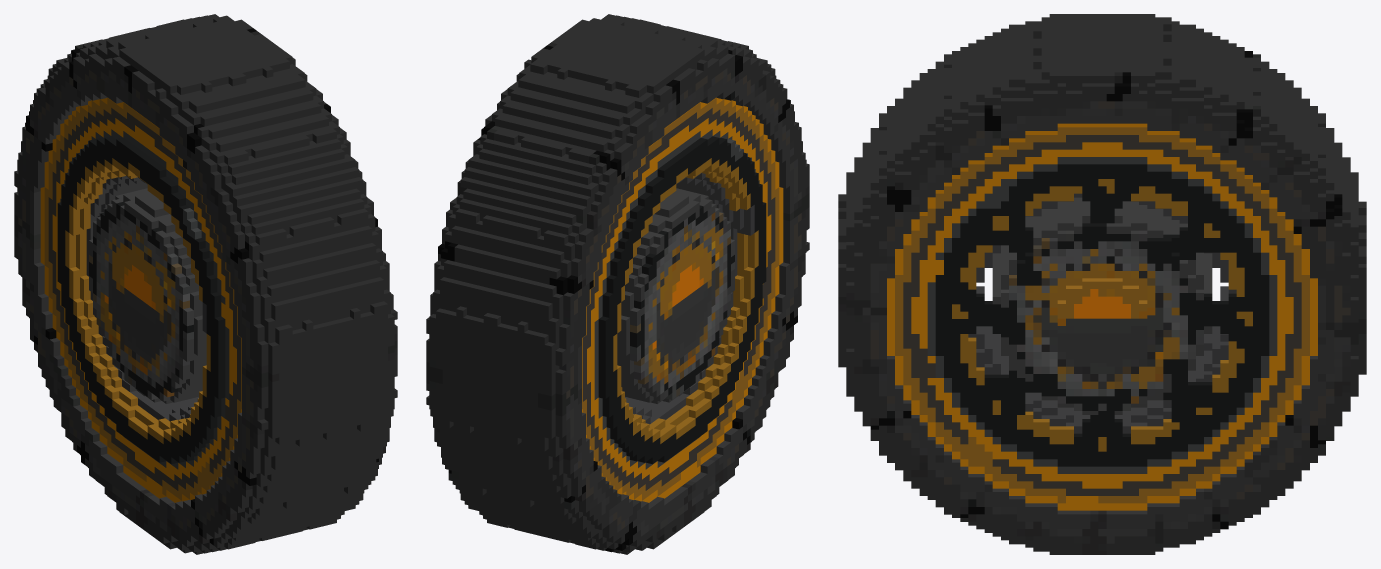
File: WheelObj.obj
The picture shows the model from 3 angles, left to right: view 1: azimuth 30°, elevation 25°; view 2: azimuth 150°, elevation 25°; view 3: azimuth 270°, elevation 25°; orthographic projection. The views are drawn at different scales.
Size of the model in its own units: 2.1 by 6.5 by 6.5.
